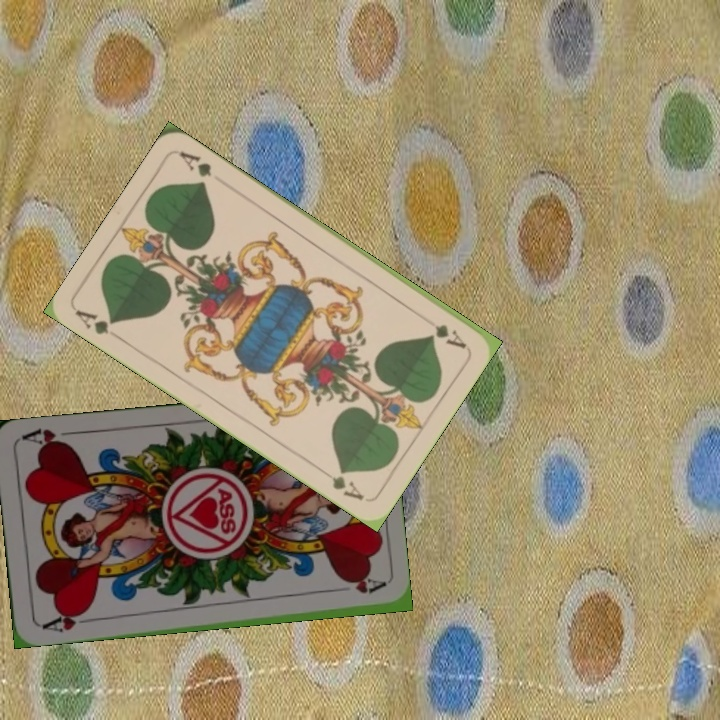GA: (72, 306, 126, 344), (430, 320, 469, 351)
HA: (38, 606, 96, 635)
